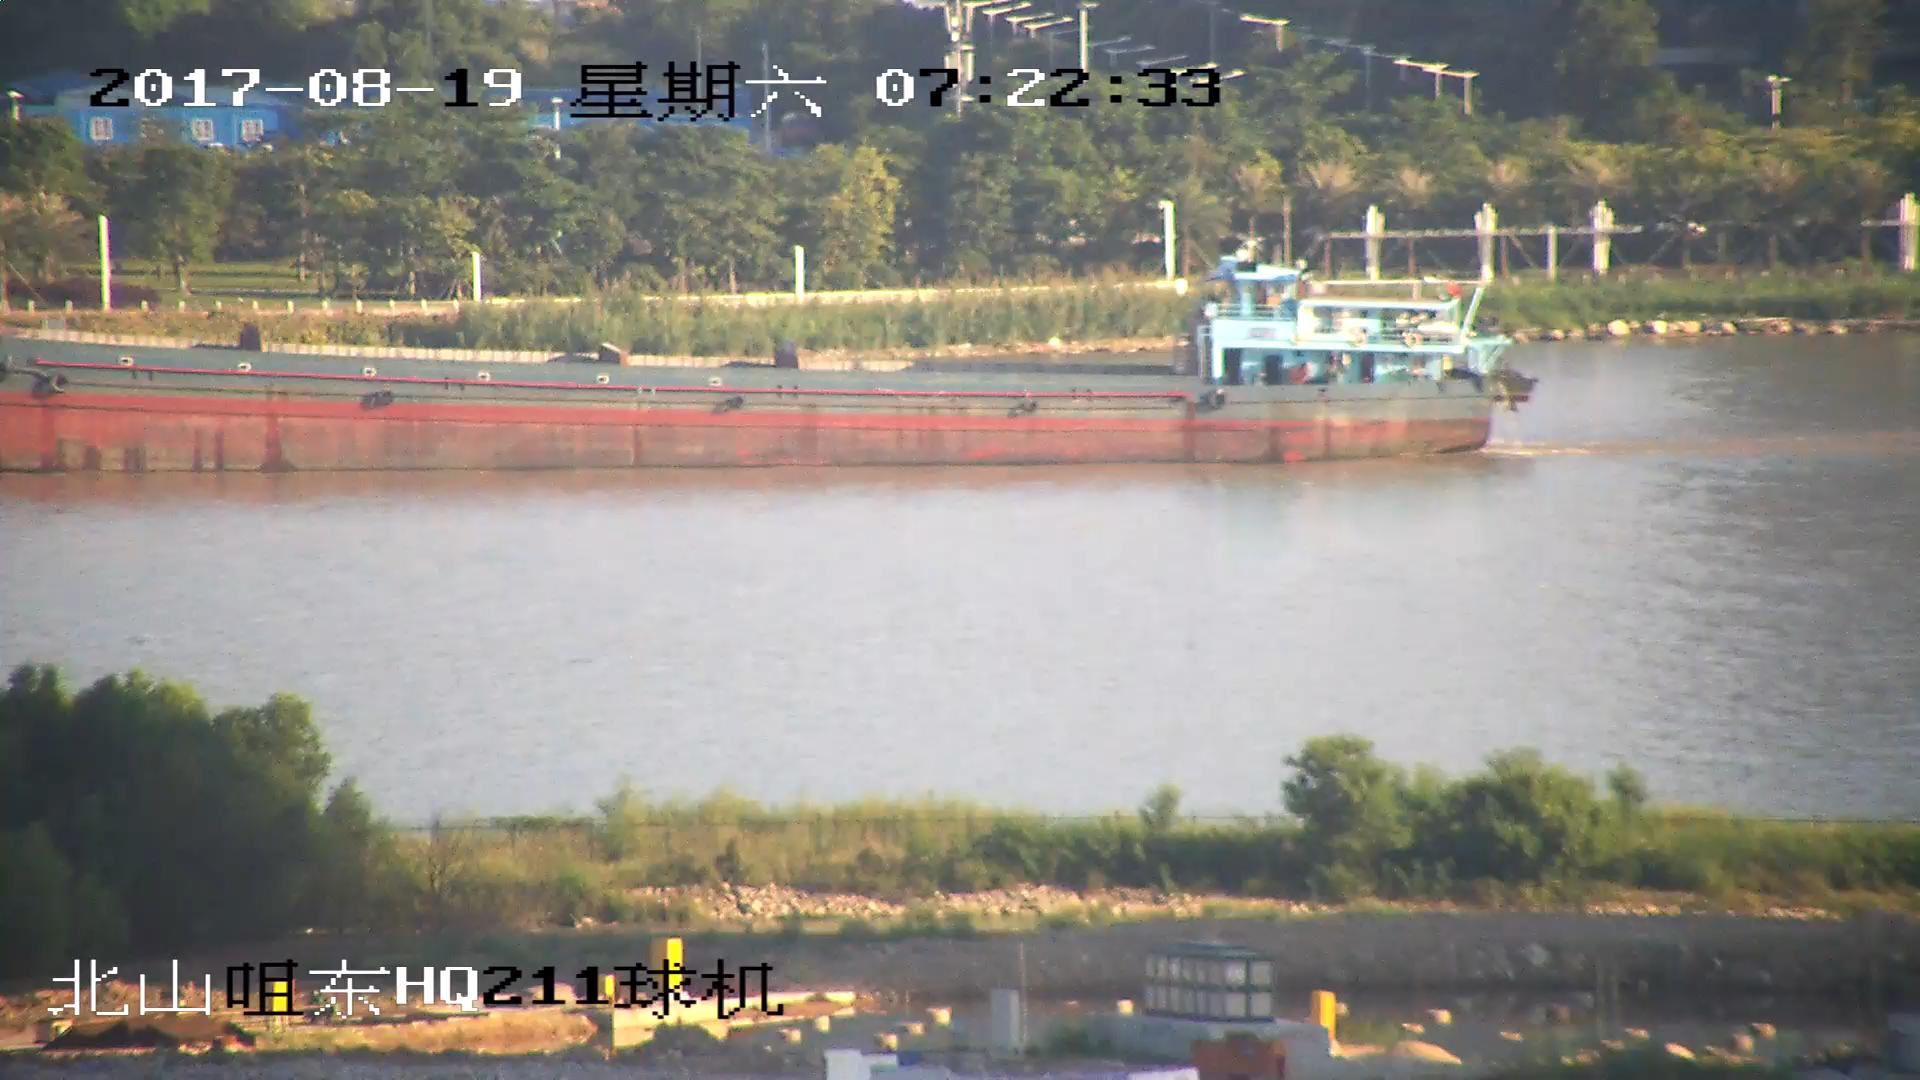bulk cargo carrier: (1, 253, 1530, 473)
